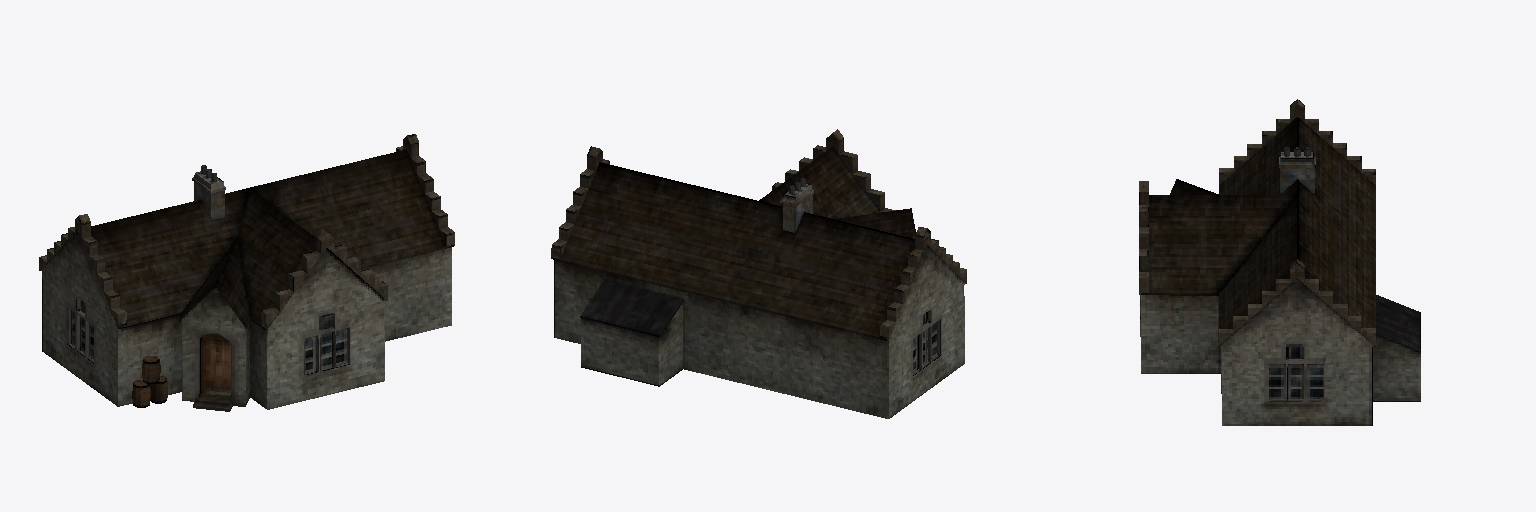
3 views of the same model, side by side, from view 1: azimuth 30°, elevation 25°; view 2: azimuth 150°, elevation 25°; view 3: azimuth 270°, elevation 25° (orthographic).
Visible parts, largest first — view 1: House; view 2: House; view 3: House.
Boxes of the visible parts, x1,y1,x2,y2 form: House: [39, 134, 454, 411]; House: [551, 129, 966, 418]; House: [1139, 99, 1420, 425].
Bounding box in the file's own units: 0.8073 × 0.4066 × 0.5854.
1 materials, 1 textured.